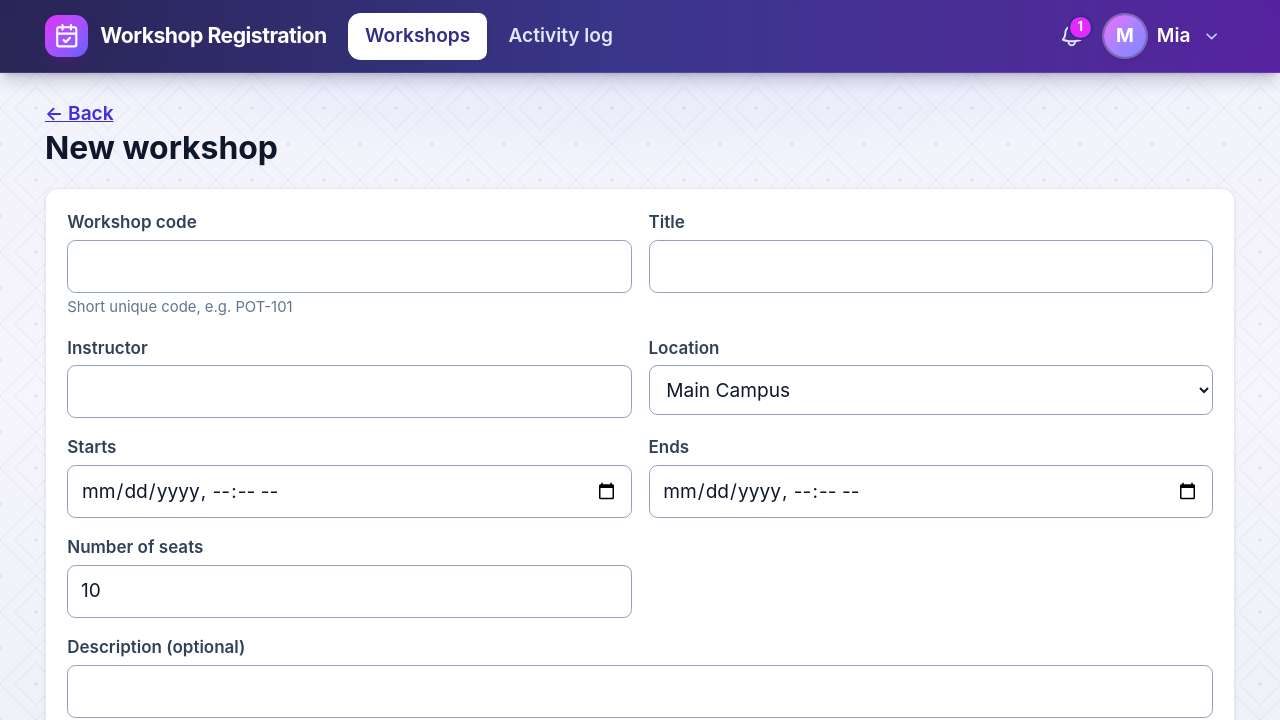
WorkshopForm (create) › shows the API error (e.g. duplicate code) and stays on the form
The width and height of the screenshot is (1280, 720).
Expected: the heading "New workshop" is shown, [45,128,278,166]
Type "  KNT-1 " into the field labelled "Workshop code Short unique code, e.g. POT-101".
click(349, 266); type("  KNT-1 ")  # box [67,240,632,293]
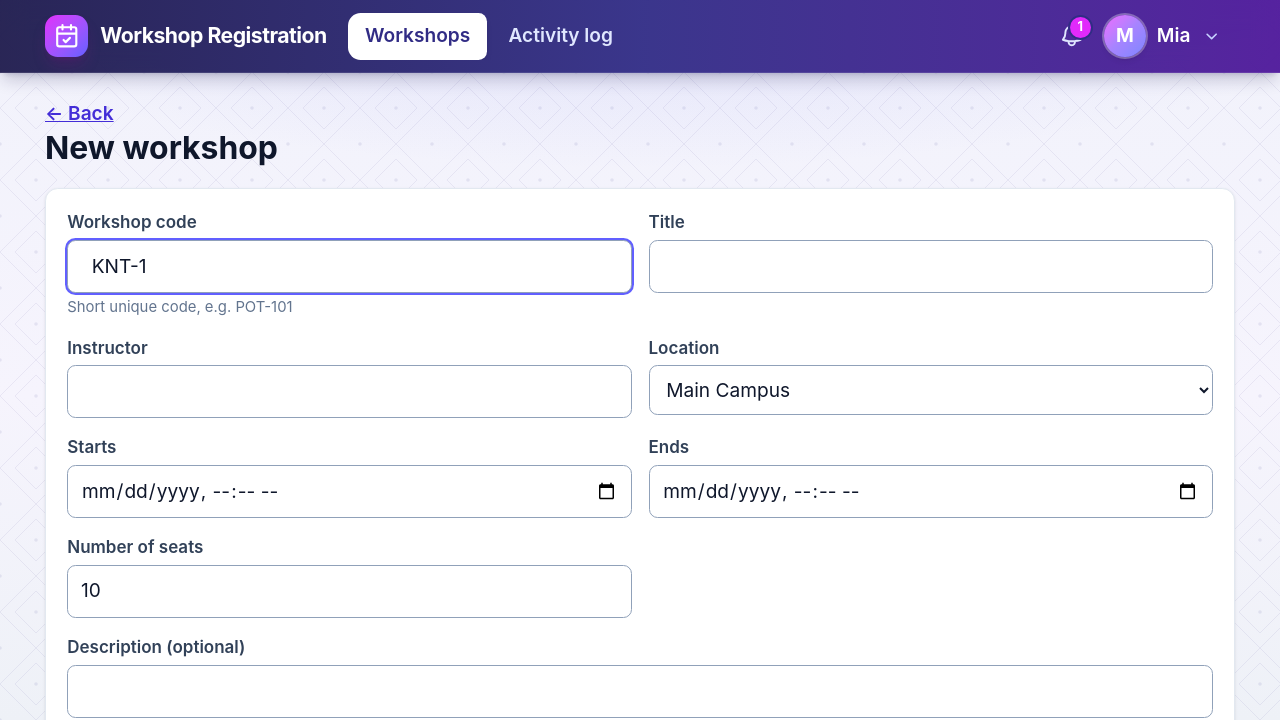
Type " Knitting " into the field labelled "Title".
click(931, 266); type(" Knitting ")  # box [648,240,1213,293]
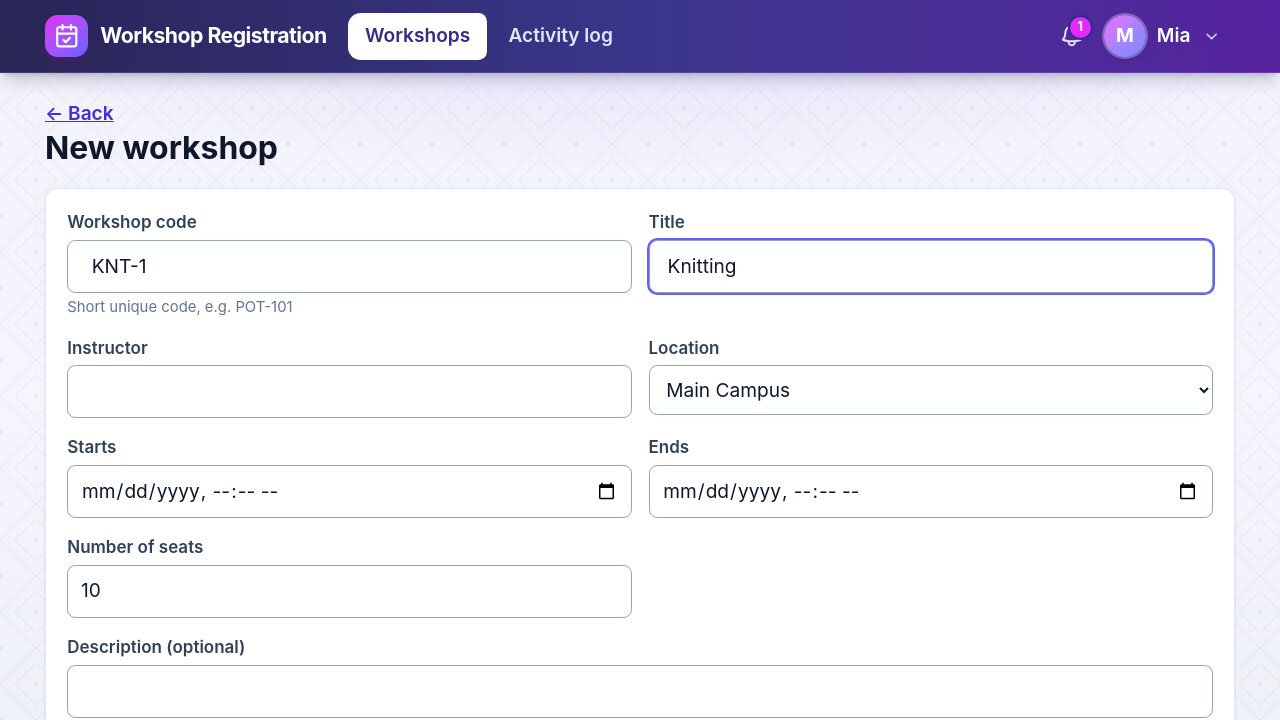
Type "Kari" into the field labelled "Instructor".
click(349, 392); type("Kari")  # box [67,365,632,418]
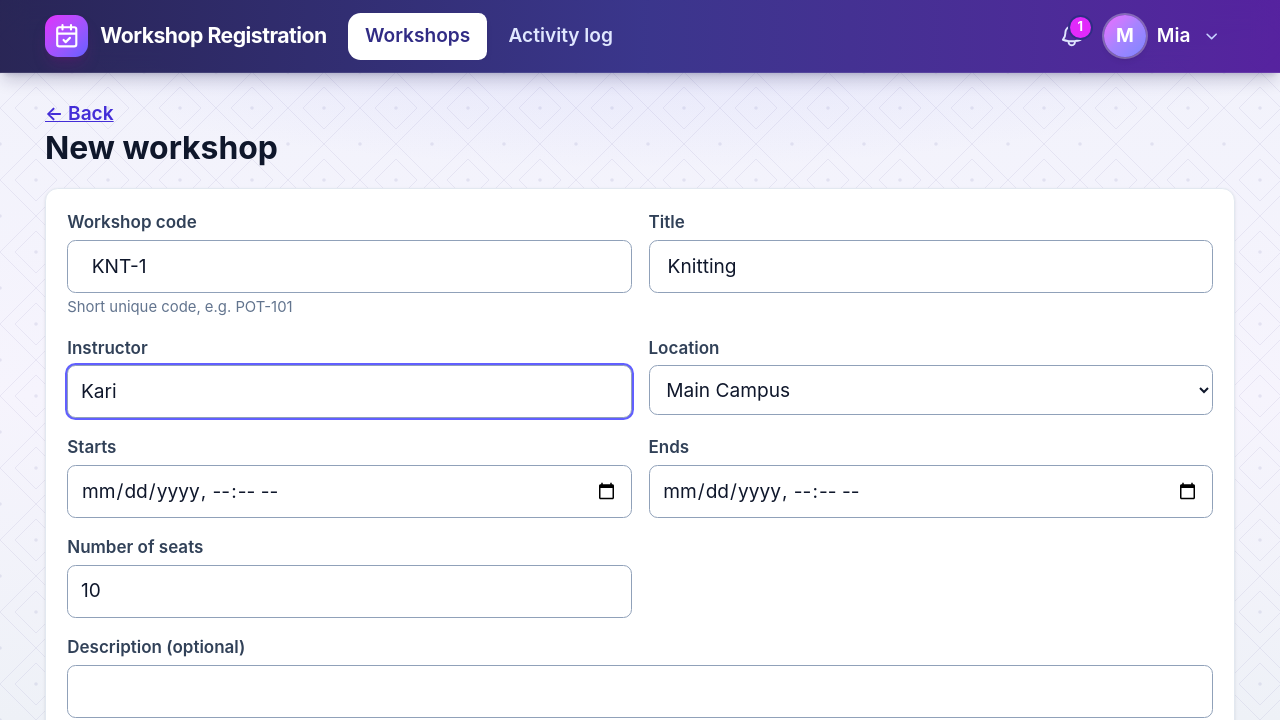
Type "2030-07-01T10:00" into the field labelled "Starts".
click(349, 492); type("2030-07-01T10:00")  # box [67,465,632,518]
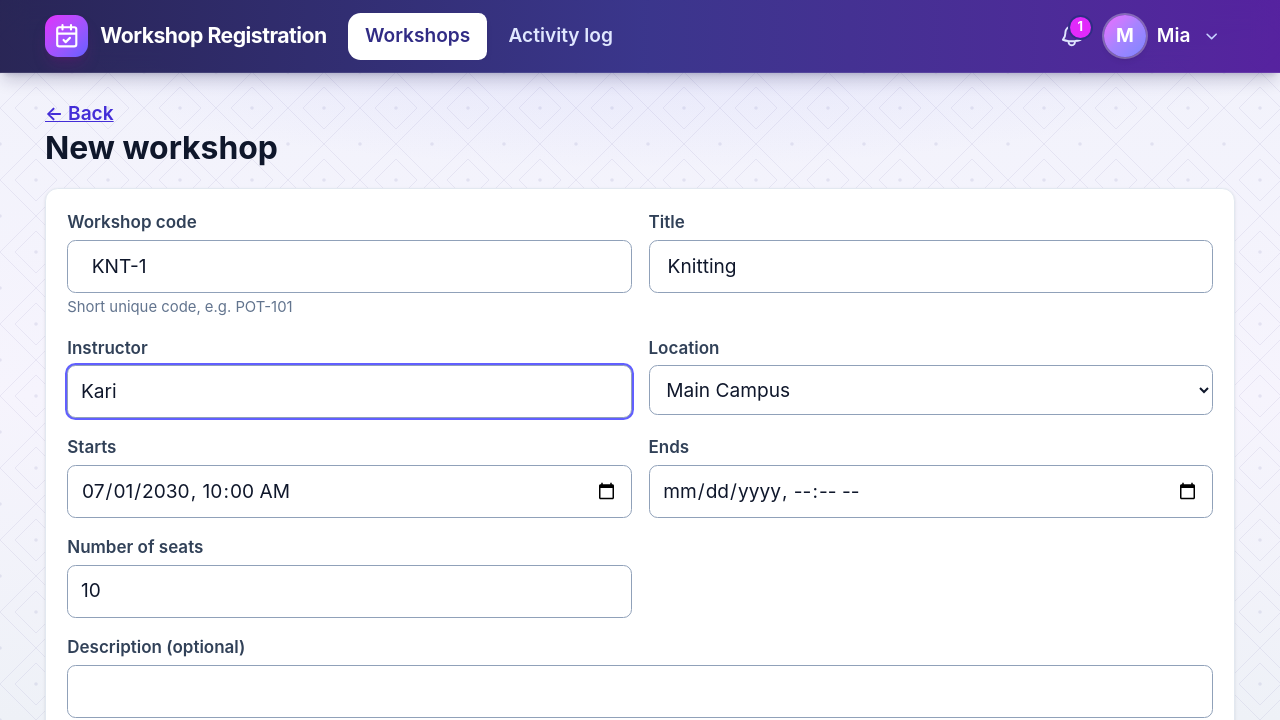
Type "2030-07-01T12:30" into the field labelled "Ends".
click(931, 492); type("2030-07-01T12:30")  # box [648,465,1213,518]
(page scrolled)
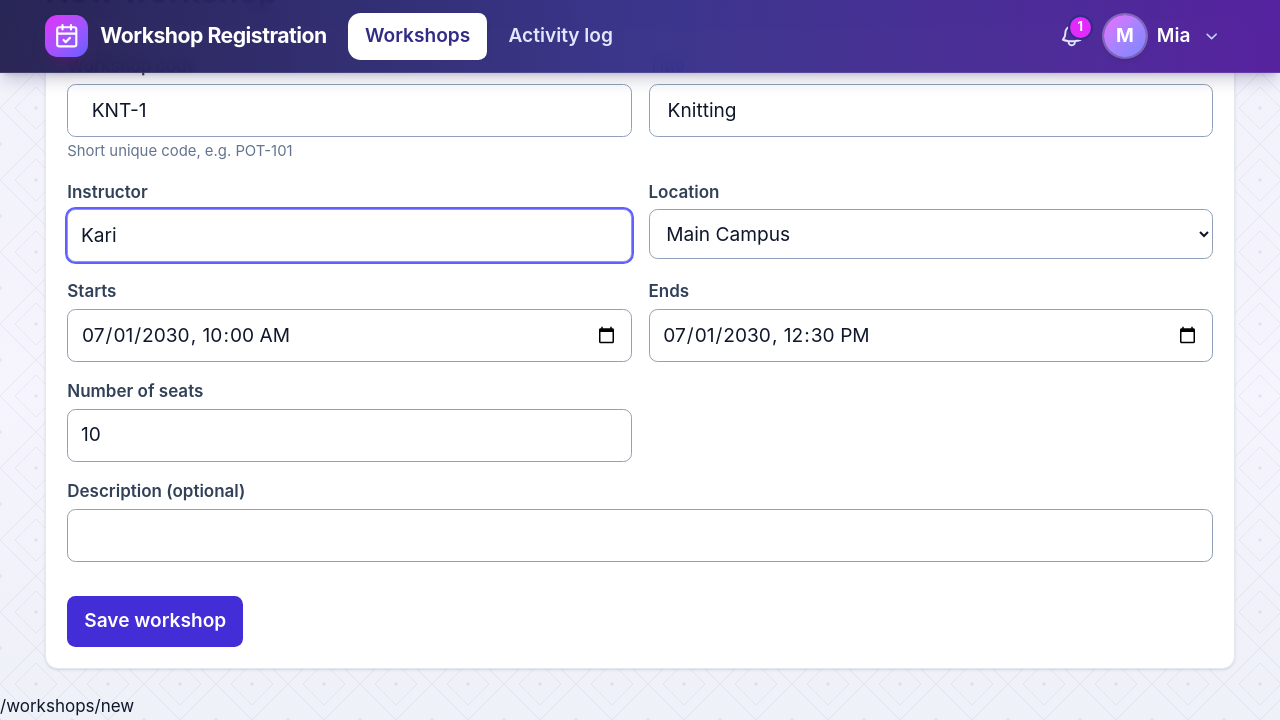
Click the button "Save workshop".
click(155, 621)  # box [67,596,243,646]
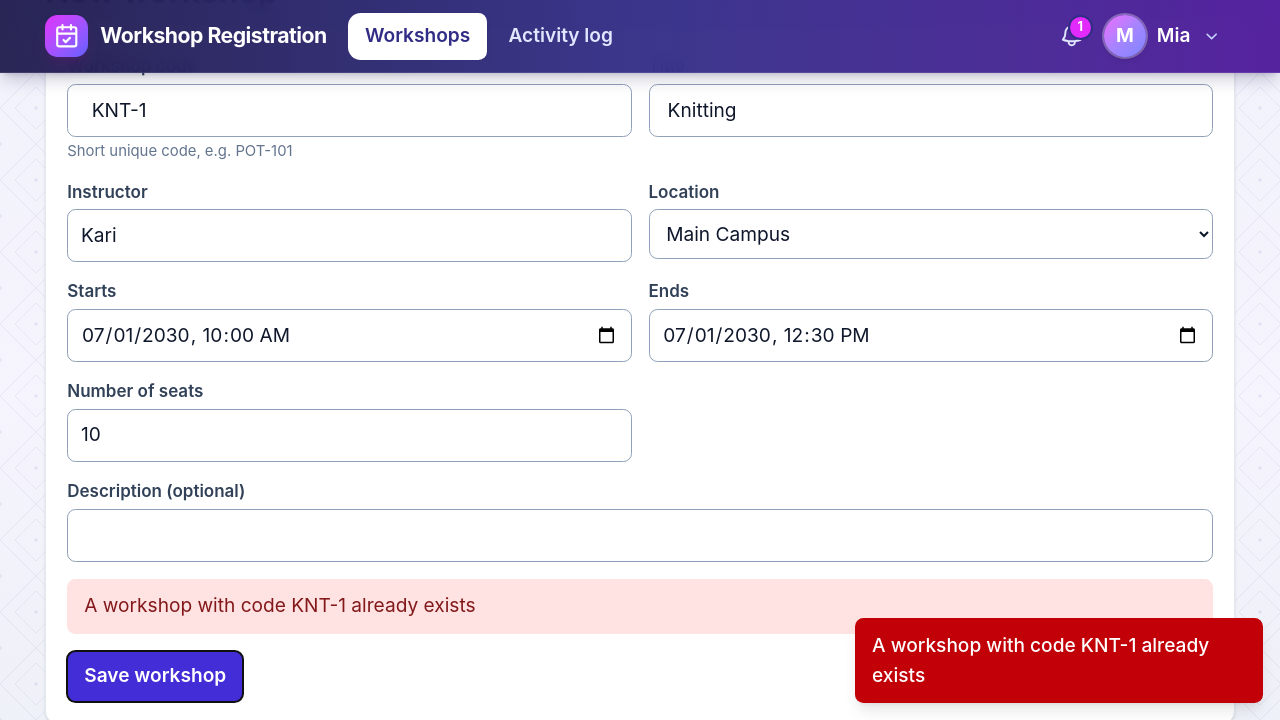
Expected: the button "Save workshop" is enabled, [67,651,243,702]
Expected: the message "A workshop with code KNT-1 already exists" below "Description (optional)" is shown, [84,593,476,617]
